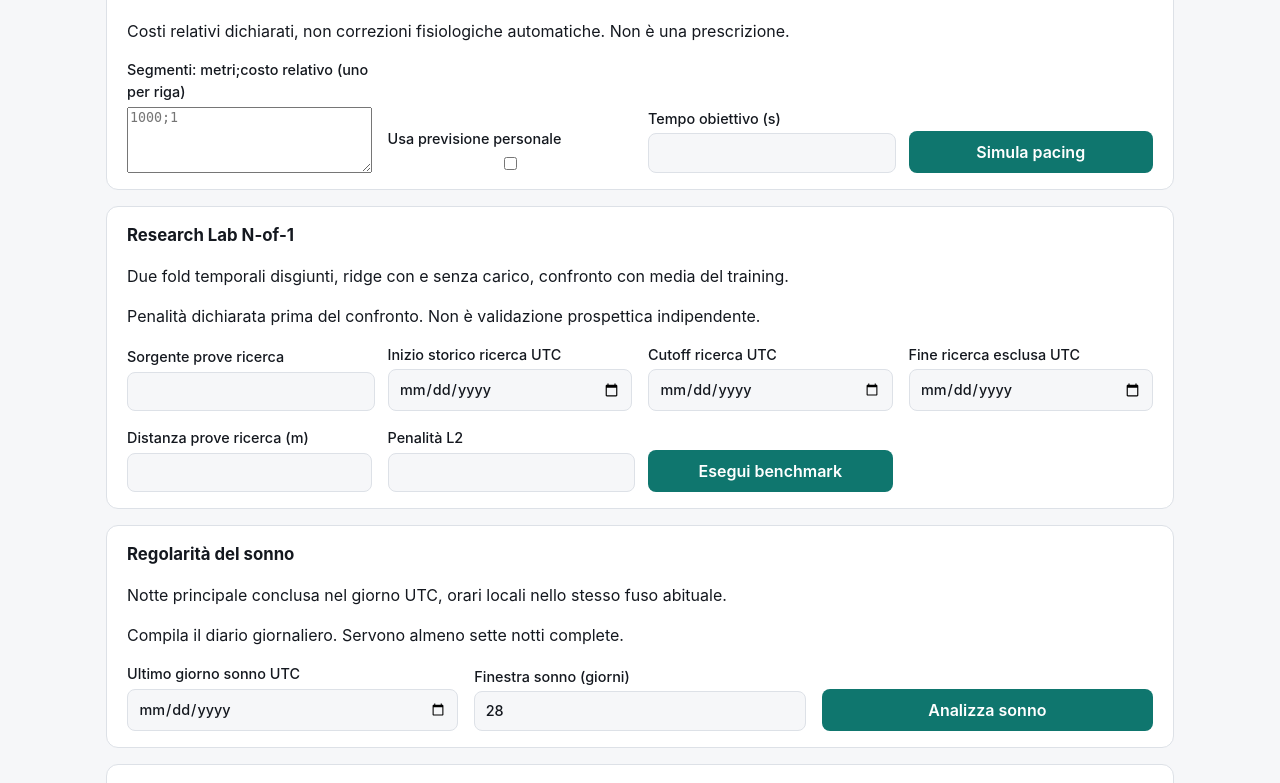
Test: research lab personale › mostra benchmark comparabili e fold senza supporto
(page scrolled)
Step 1. Type "samsung-health" into the field labelled "Sorgente prove ricerca" → (251, 391), box [127,372,375,411]
Step 2. Type "2026-01-01" into the date field labelled "Inizio storico ricerca UTC" → (510, 390), box [388,370,632,411]
(page scrolled)
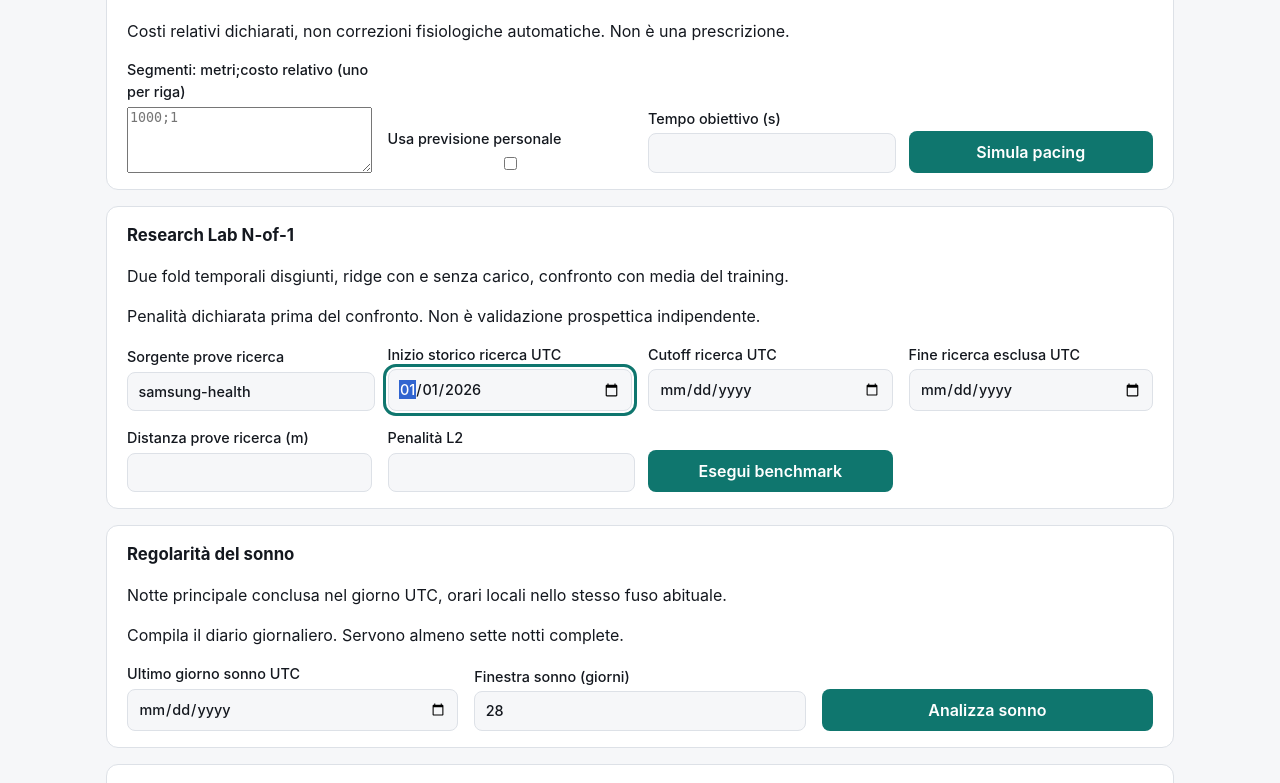
Step 3. Type "2026-02-01" into the date field labelled "Cutoff ricerca UTC" → (770, 390), box [648,370,892,411]
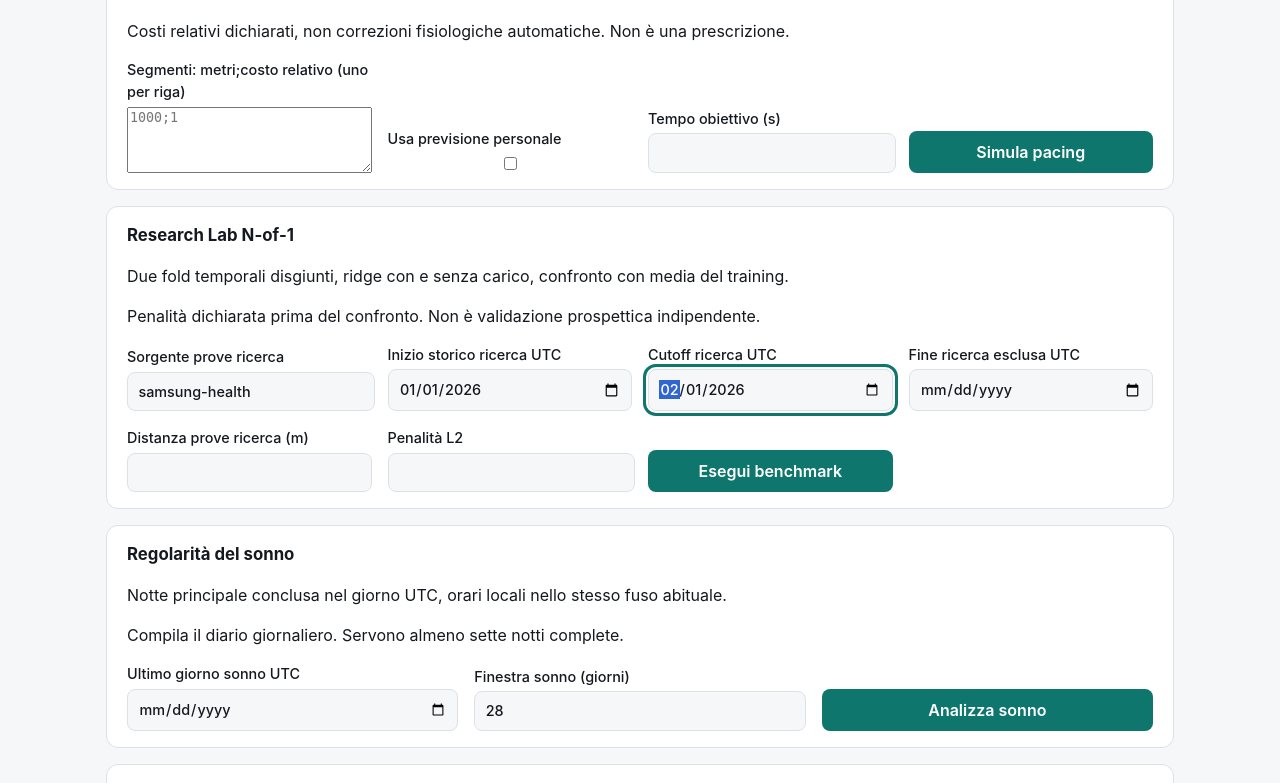
Step 4. Type "2026-03-01" into the date field labelled "Fine ricerca esclusa UTC" → (1031, 390), box [908,370,1153,411]
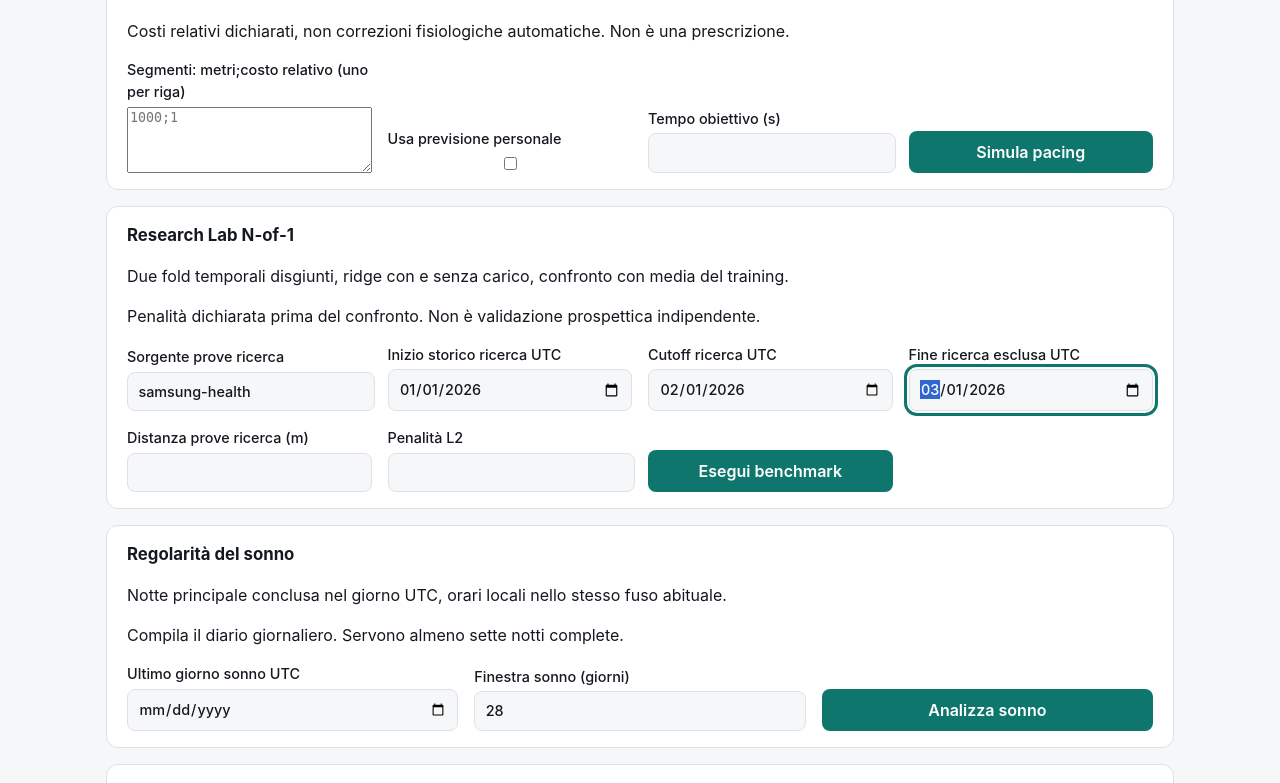
Step 5. Type "5000" into the number field labelled "Distanza prove ricerca (m)" → (249, 472), box [127,453,372,492]
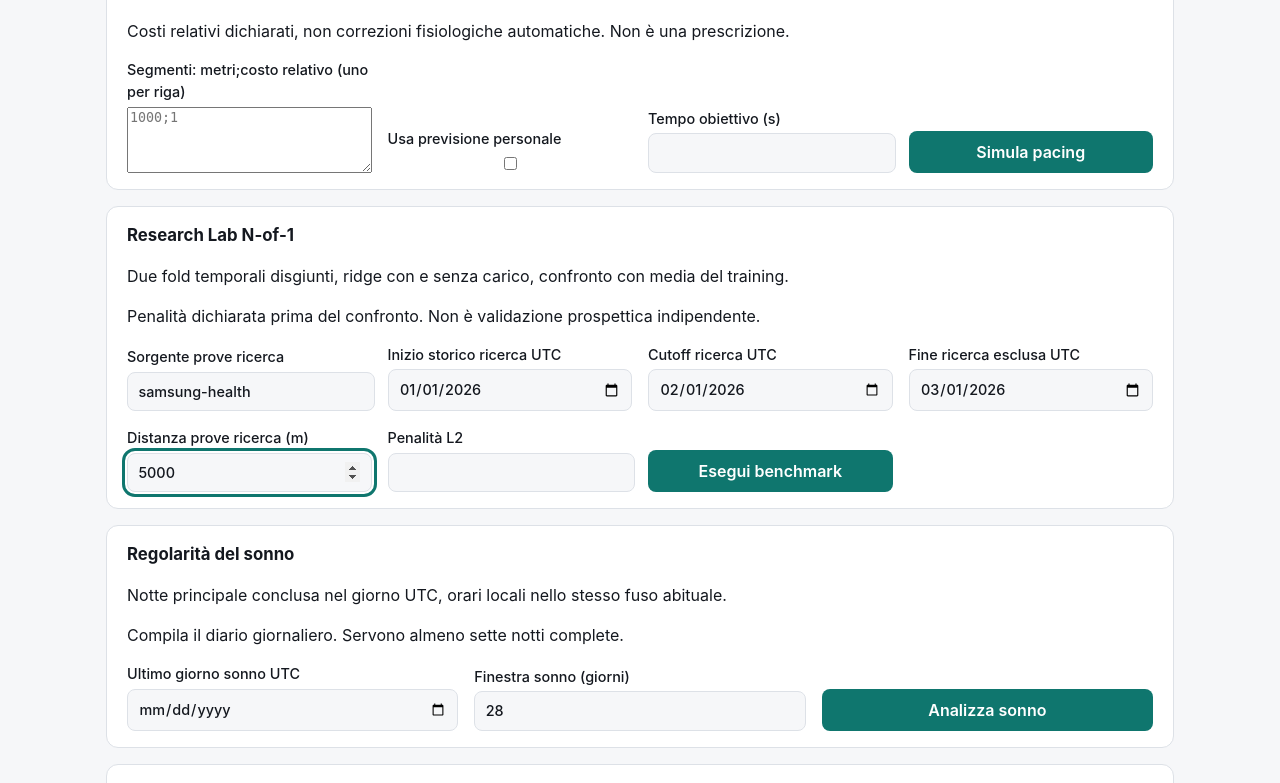
Step 6. Type "1" into the number field labelled "Penalità L2" → (511, 472), box [388,453,635,492]
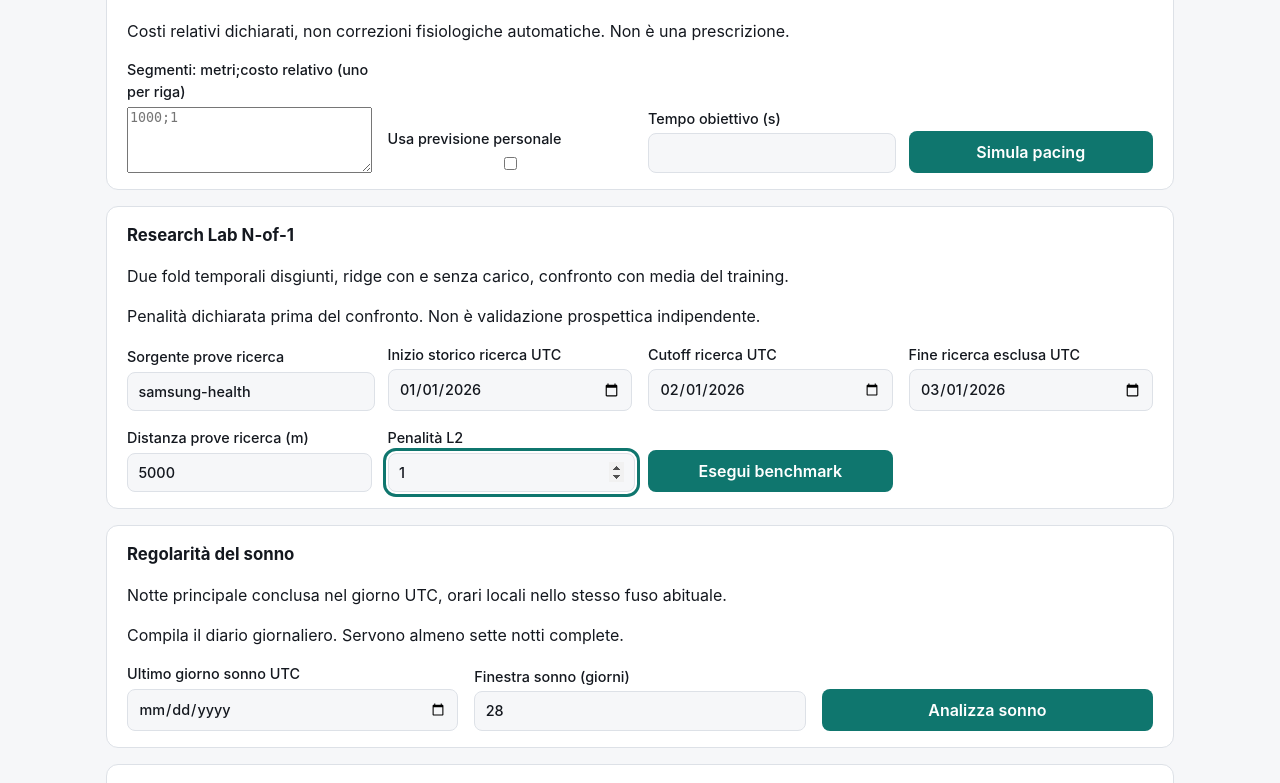
Step 7. Click the button "Esegui benchmark" → (770, 471), box [648,450,892,492]
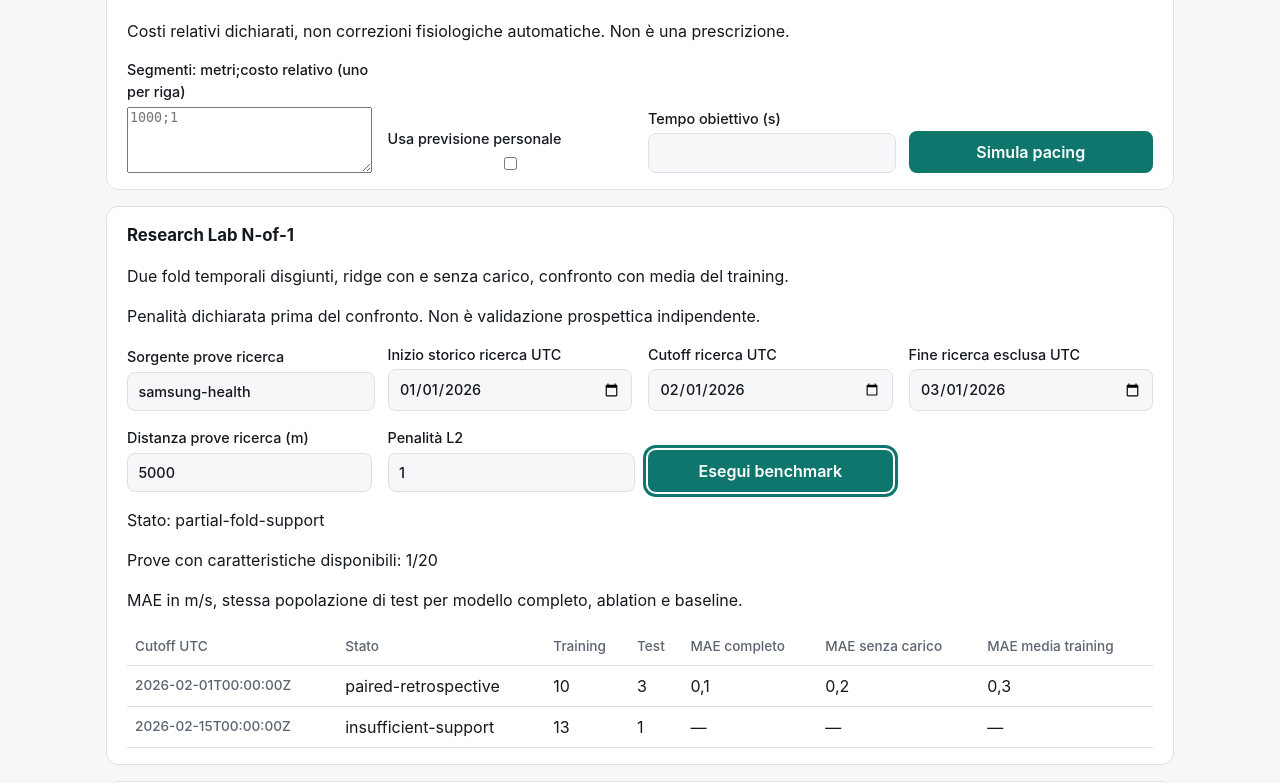
expect the text "Stato: partial-fold-support" is shown: met, box [127,510,325,530]
expect the text "0,1" is shown: met, box [682,665,817,706]
expect the text "0,2" is shown: met, box [817,665,979,706]
